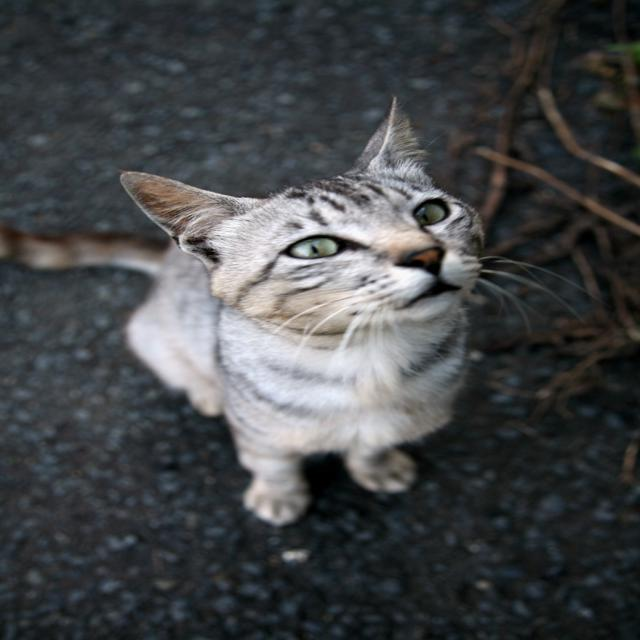Cat: (0, 93, 606, 527)
